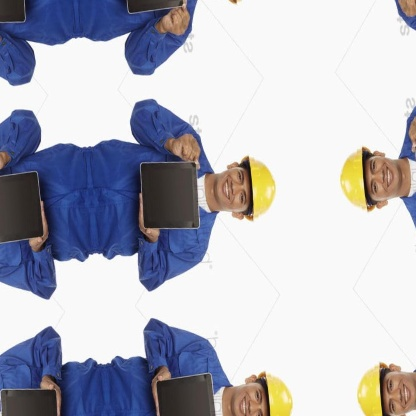yellow: (237, 147, 284, 227)
